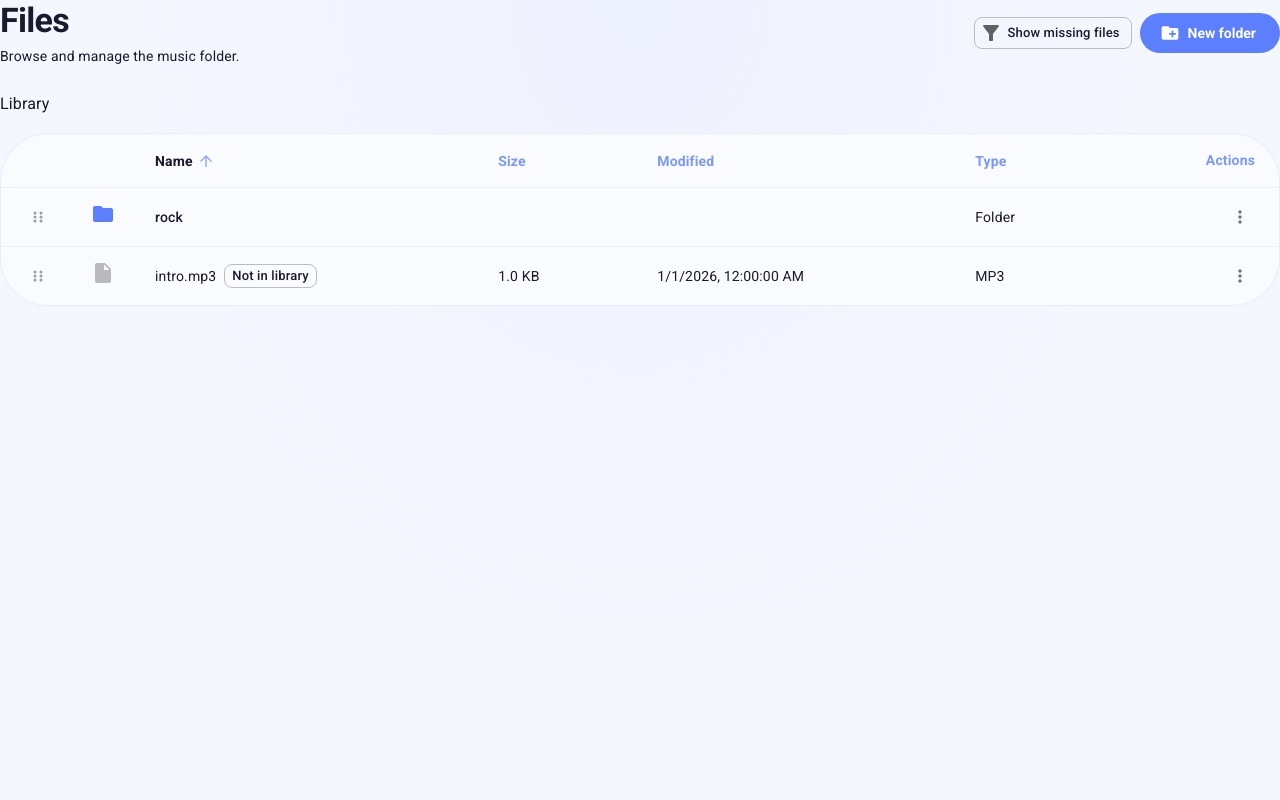
Test case: Files Page › creates a new folder
Expected: the text "rock" is shown, x1=135 y1=187 x2=478 y2=246
Click the button "New folder" at (1210, 33), box x1=1140 y1=13 x2=1279 y2=53
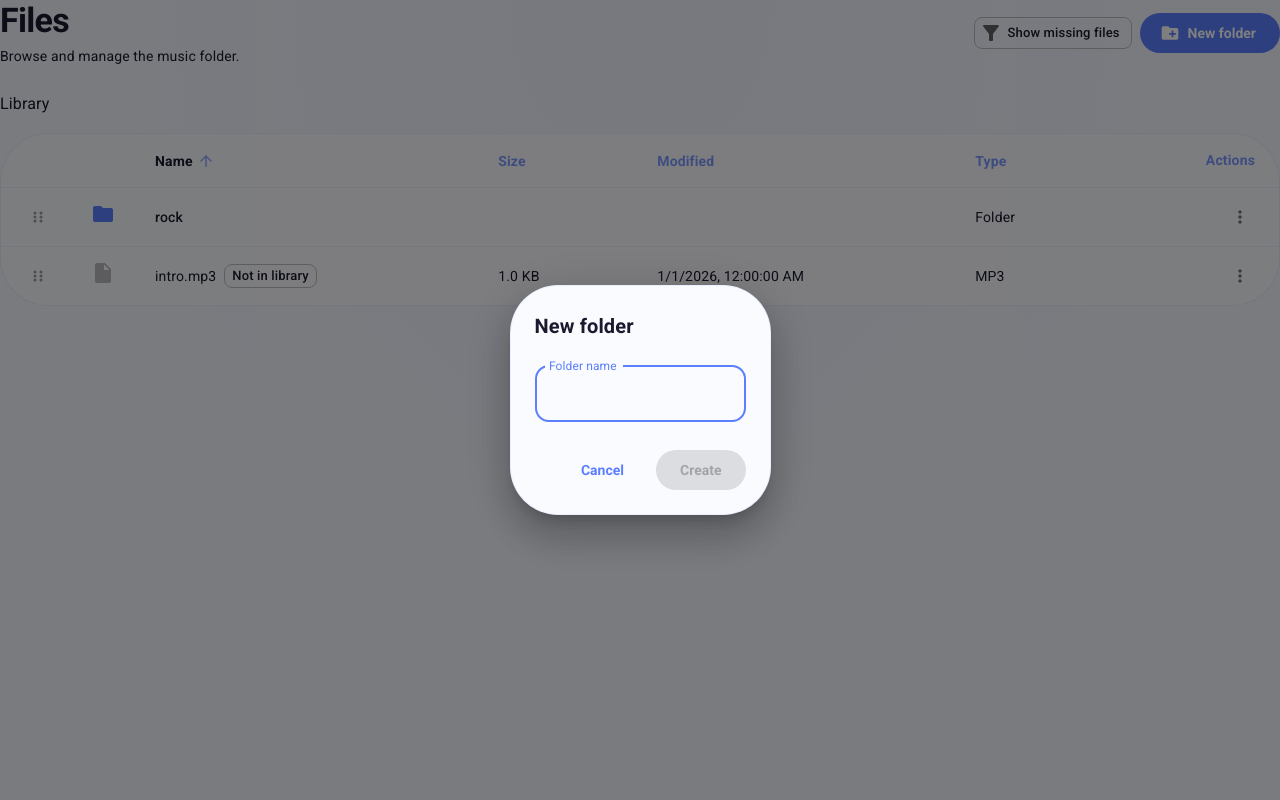
Type "jazz" into the field labelled "Folder name" at (640, 394), box x1=534 y1=366 x2=746 y2=422
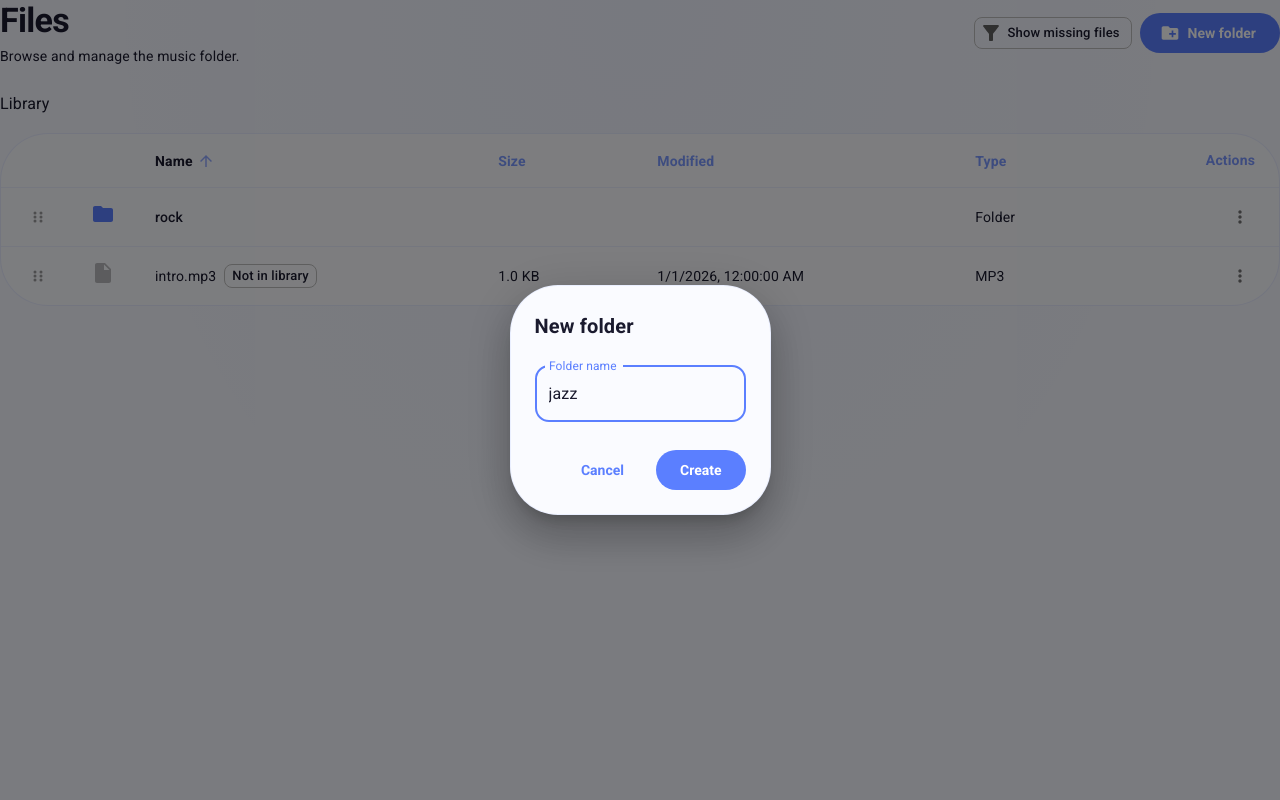
Click the button "Create" at (701, 470), box x1=656 y1=450 x2=746 y2=490
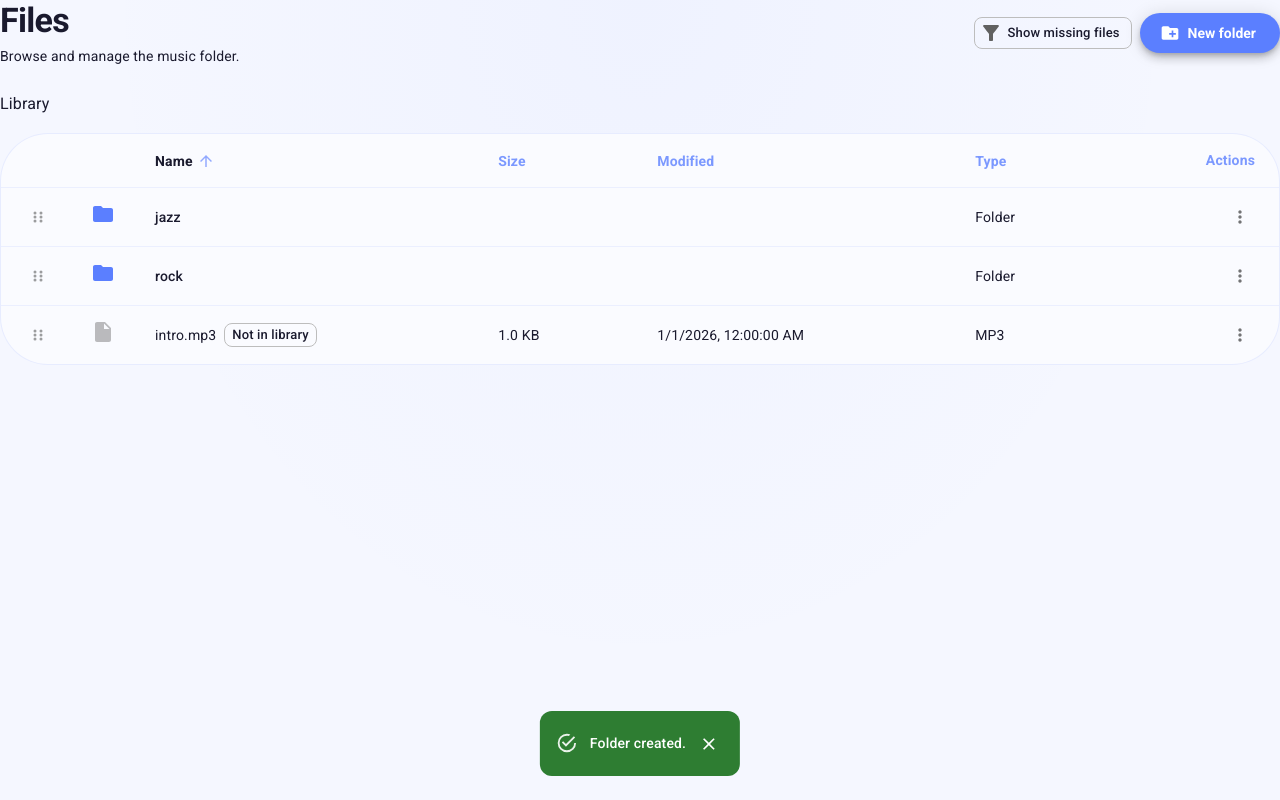
Expected: the text "jazz" is shown, x1=135 y1=187 x2=478 y2=246
